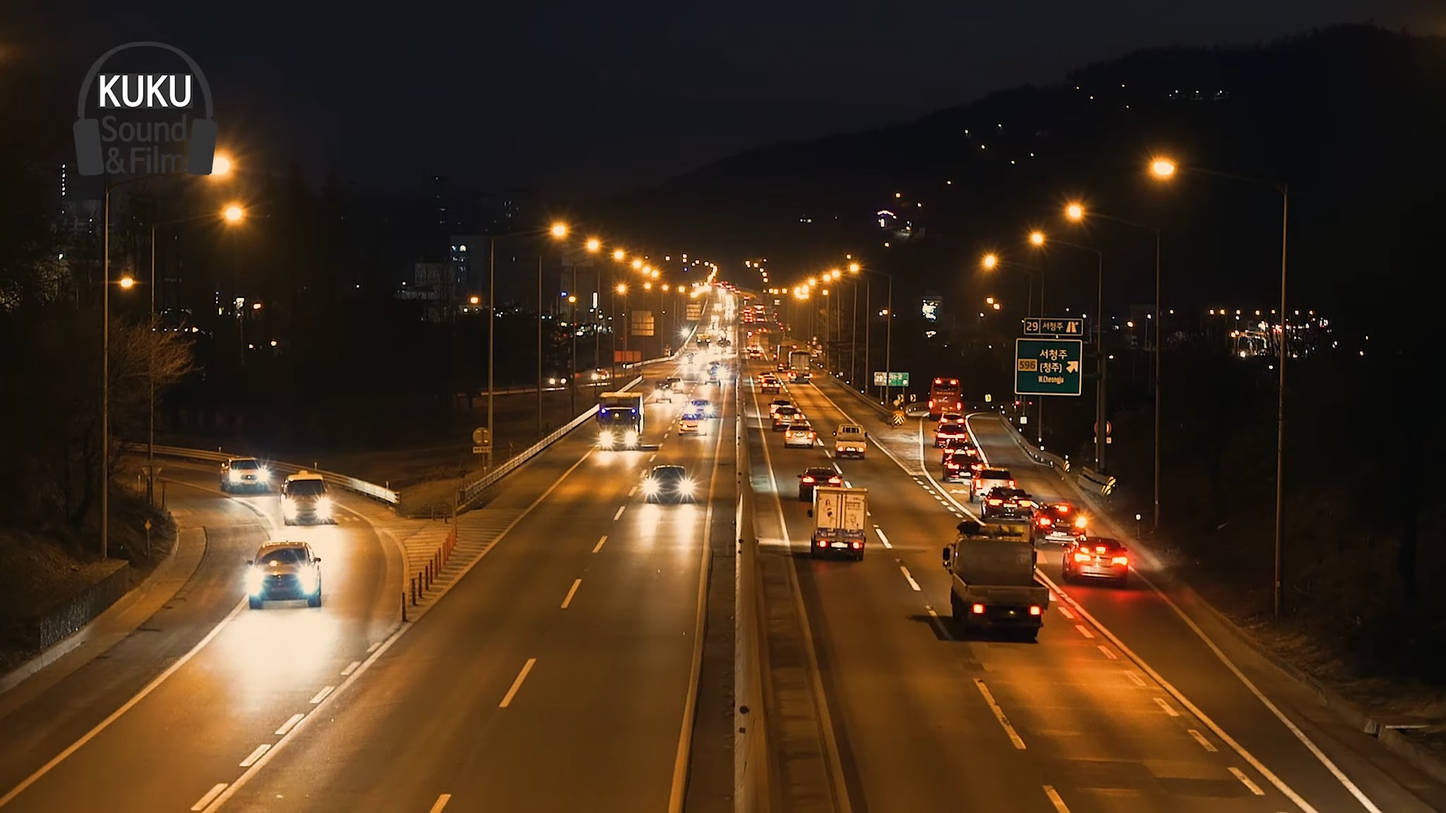car: (1059, 528, 1135, 593), (636, 464, 695, 507)
truck: (941, 524, 1055, 636), (805, 482, 873, 559)
